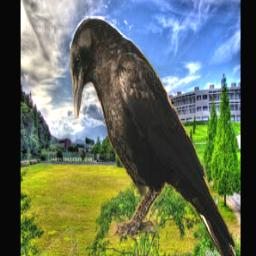Crow: (70, 16, 238, 256)
